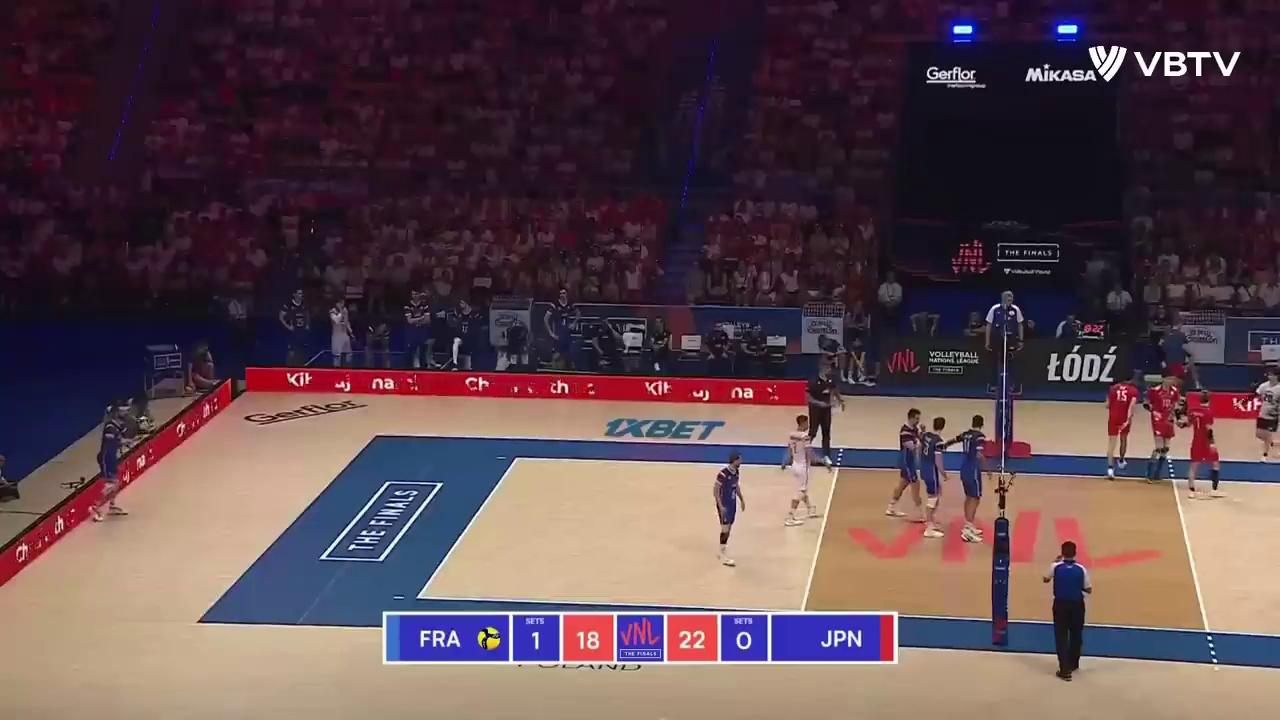ball: (137, 418, 150, 431)
